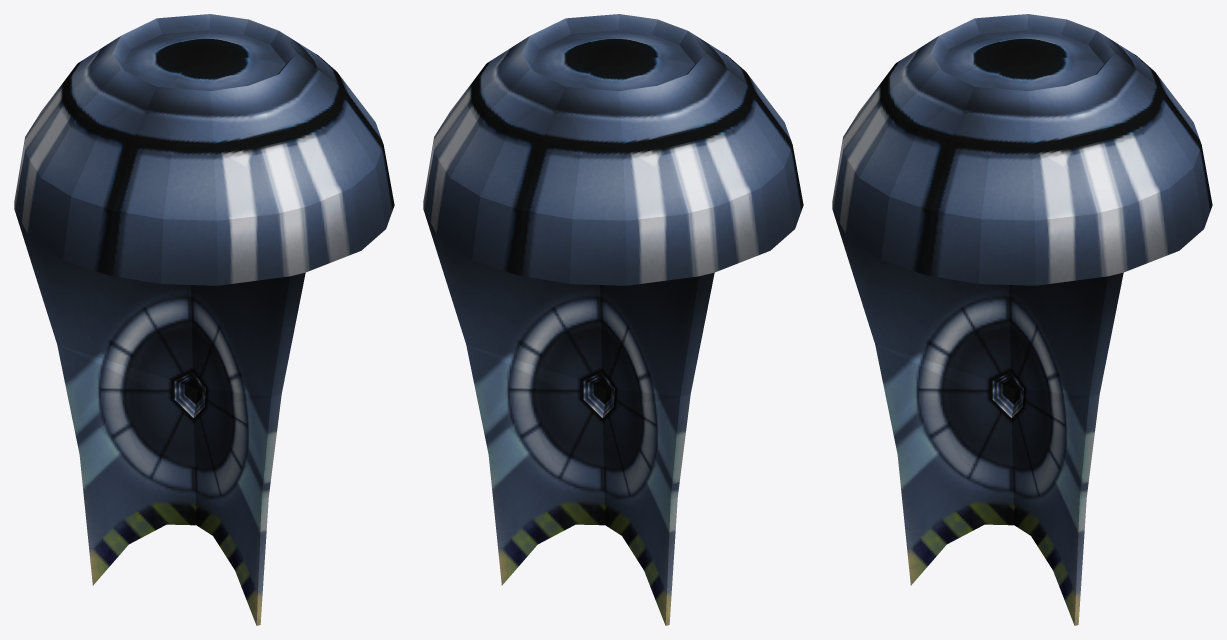
The model's file is mine3.fbx.
3 views of the same model, side by side, from view 1: azimuth 30°, elevation 25°; view 2: azimuth 150°, elevation 25°; view 3: azimuth 270°, elevation 25° (orthographic).
Visible parts, largest first — view 1: Mine3; view 2: Mine3; view 3: Mine3.
Part boxes in pixels (bbox=[...]): Mine3: bbox=[14, 14, 394, 625]; Mine3: bbox=[423, 14, 803, 625]; Mine3: bbox=[832, 14, 1212, 625].
Size of the model in its own units: 131 by 203 by 131.
